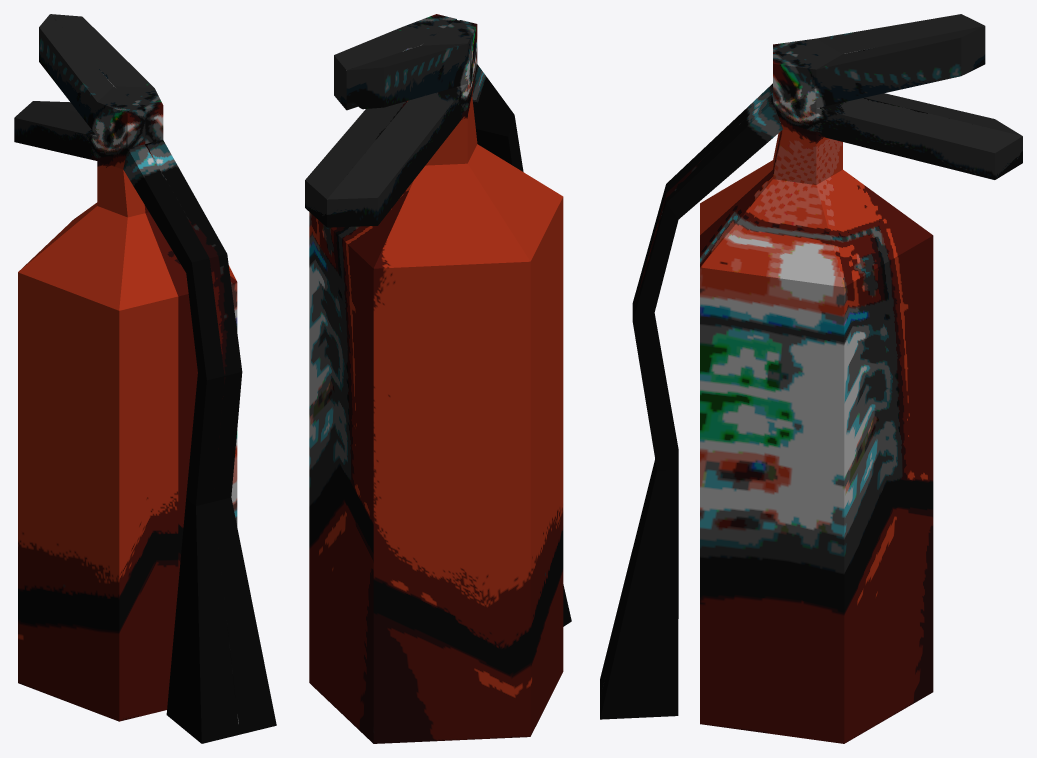
Rendered from Extintor.fbx.
3 renders of one model, left to right at view 1: azimuth 30°, elevation 25°; view 2: azimuth 150°, elevation 25°; view 3: azimuth 270°, elevation 25°, orthographic. The views are drawn at different scales.
Parts seen in each view (by area): view 1: Cylinder.004; view 2: Cylinder.004; view 3: Cylinder.004.
Part boxes in pixels (x1,y1,x2,y2): Cylinder.004: (14,14,276,743); Cylinder.004: (305,14,571,743); Cylinder.004: (600,14,1022,743).
Size of the model in its own units: 17.56 by 52.61 by 30.26.
1 material, 1 textured.
